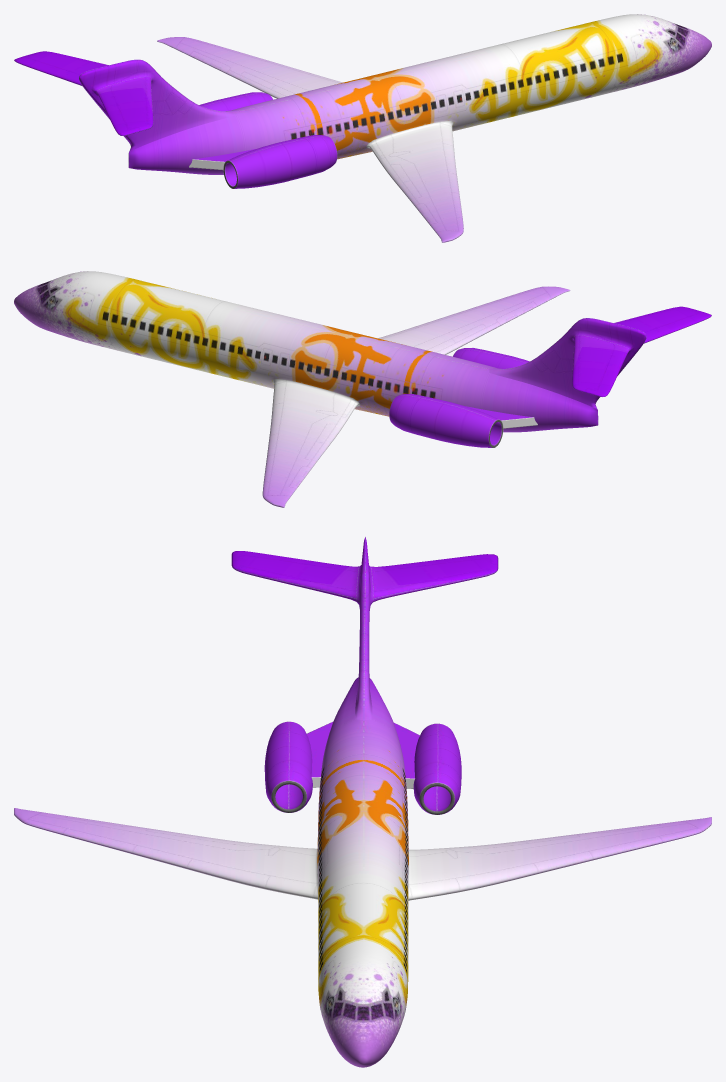
The picture shows the model from 3 angles, top to bottom: view 1: azimuth 30°, elevation 25°; view 2: azimuth 150°, elevation 25°; view 3: azimuth 270°, elevation 25°; orthographic projection. The views are drawn at different scales.
Parts seen in each view (by area): view 1: plane; view 2: plane; view 3: plane.
Boxes of the visible parts, box(x1,y1,x2,y2) form: plane: box(14, 14, 711, 242); plane: box(14, 271, 711, 507); plane: box(14, 537, 711, 1067).
Bounding box in the file's own units: 14.25 × 3.09 × 10.95.
Materials: 1 (1 with a texture image).
